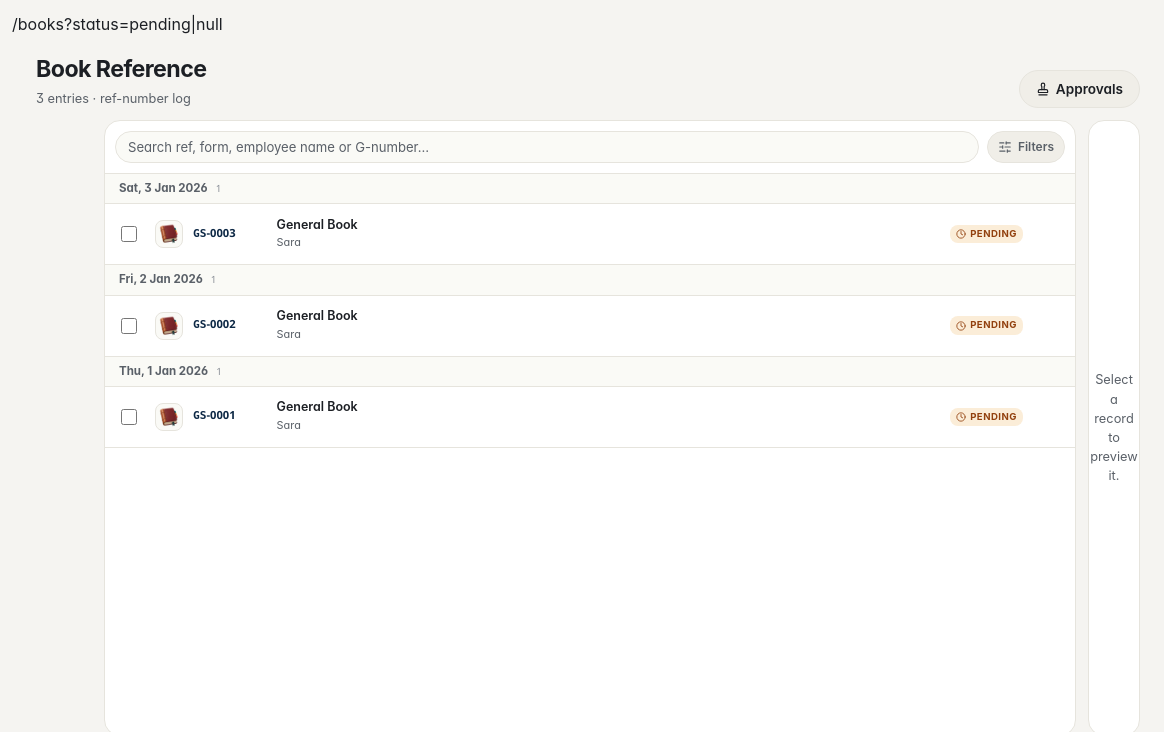
Records page selection that outlives its row › counts and deletes only the ticked rows still on screen
This screenshot has width=1164, height=732.
Click the checkbox named "Select GS-0003".
click(129, 234)  # box left=121, top=226, right=137, bottom=242
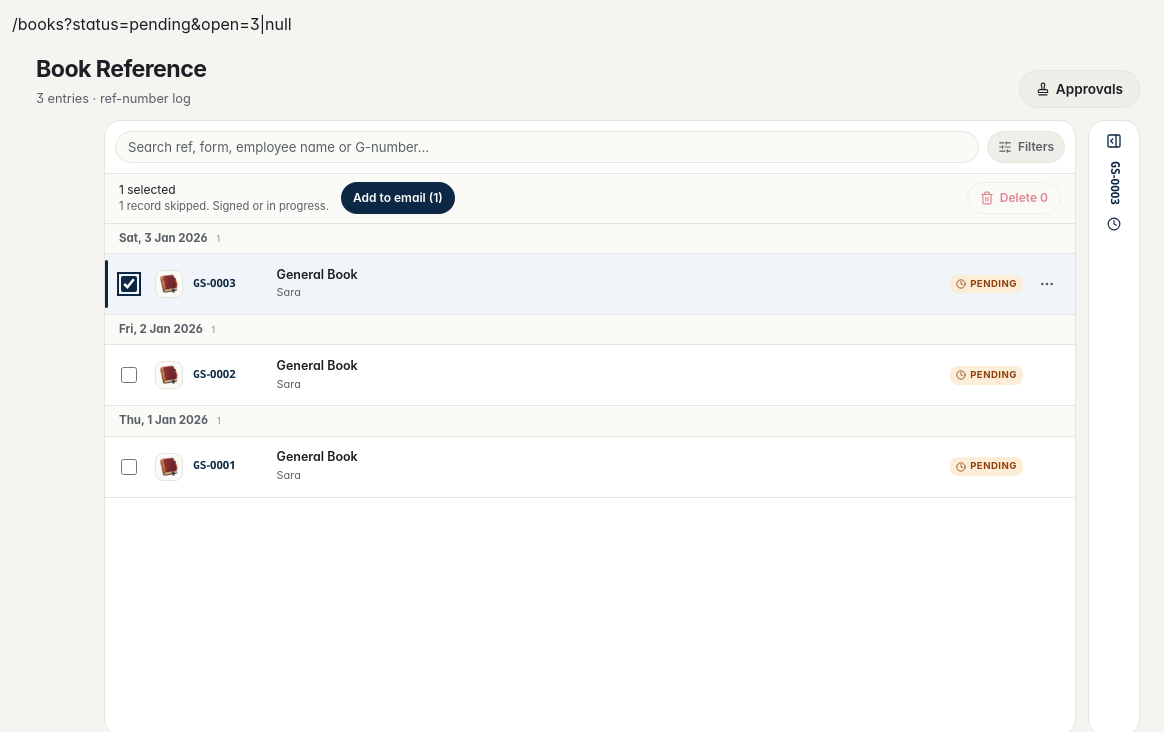
Click the checkbox named "Select GS-0002".
click(129, 375)  # box left=121, top=367, right=137, bottom=383
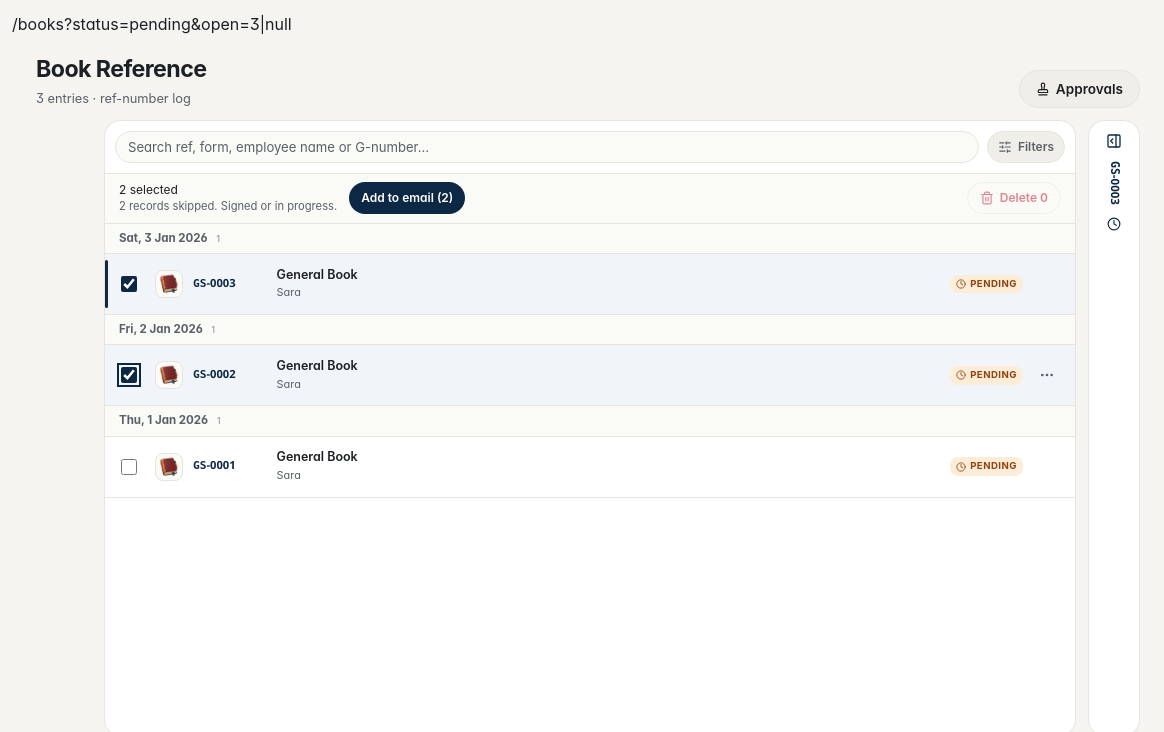
Now the text "2 selected" is shown, box left=119, top=182, right=178, bottom=197
Type "Subject 3" into the field with test id "records-search".
click(547, 147); type("Subject 3")  # box left=115, top=131, right=979, bottom=163
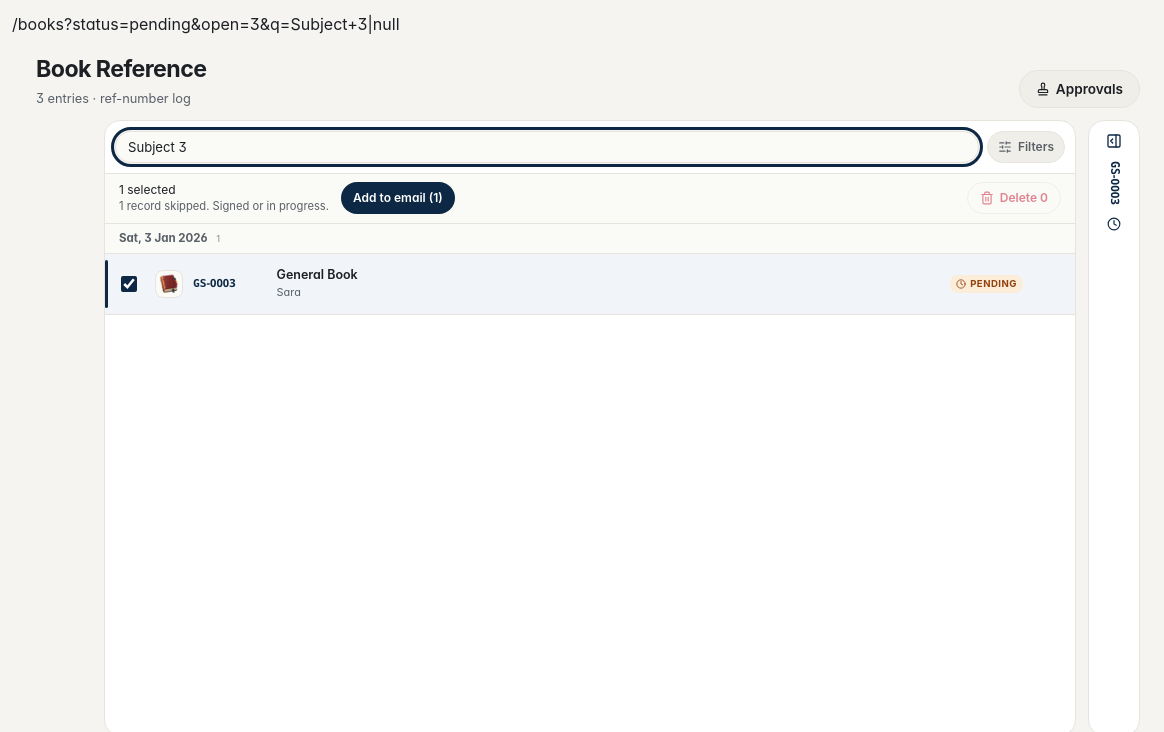
Now the text "1 selected" is shown, box left=119, top=182, right=176, bottom=197
Now the button "Add to email (1)" is shown, box left=341, top=182, right=455, bottom=214
